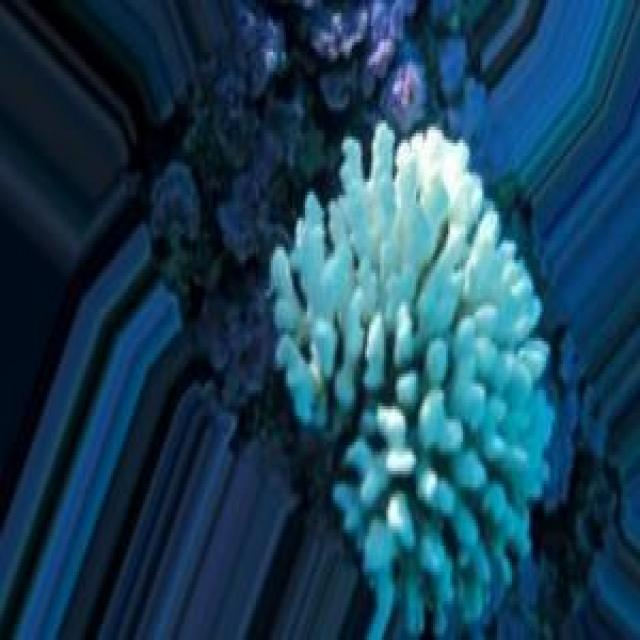Bleached: (274, 125, 554, 639)
